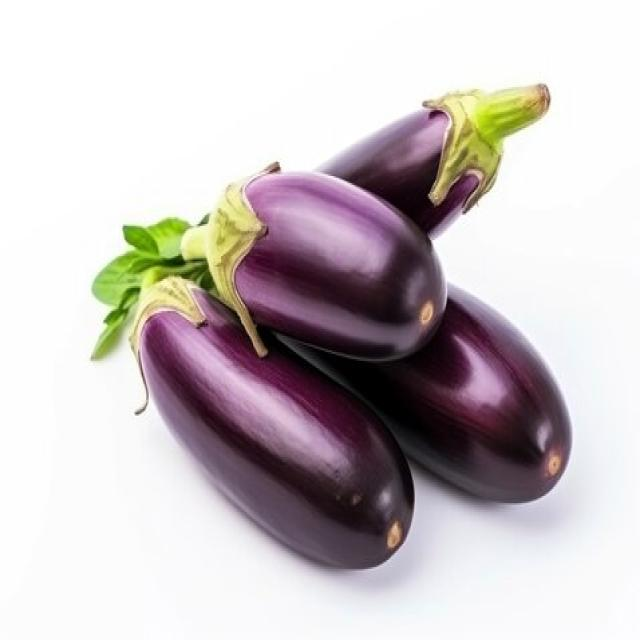Eggplant: (127, 272, 415, 569), (276, 279, 572, 503), (180, 160, 448, 363), (312, 80, 550, 240)
